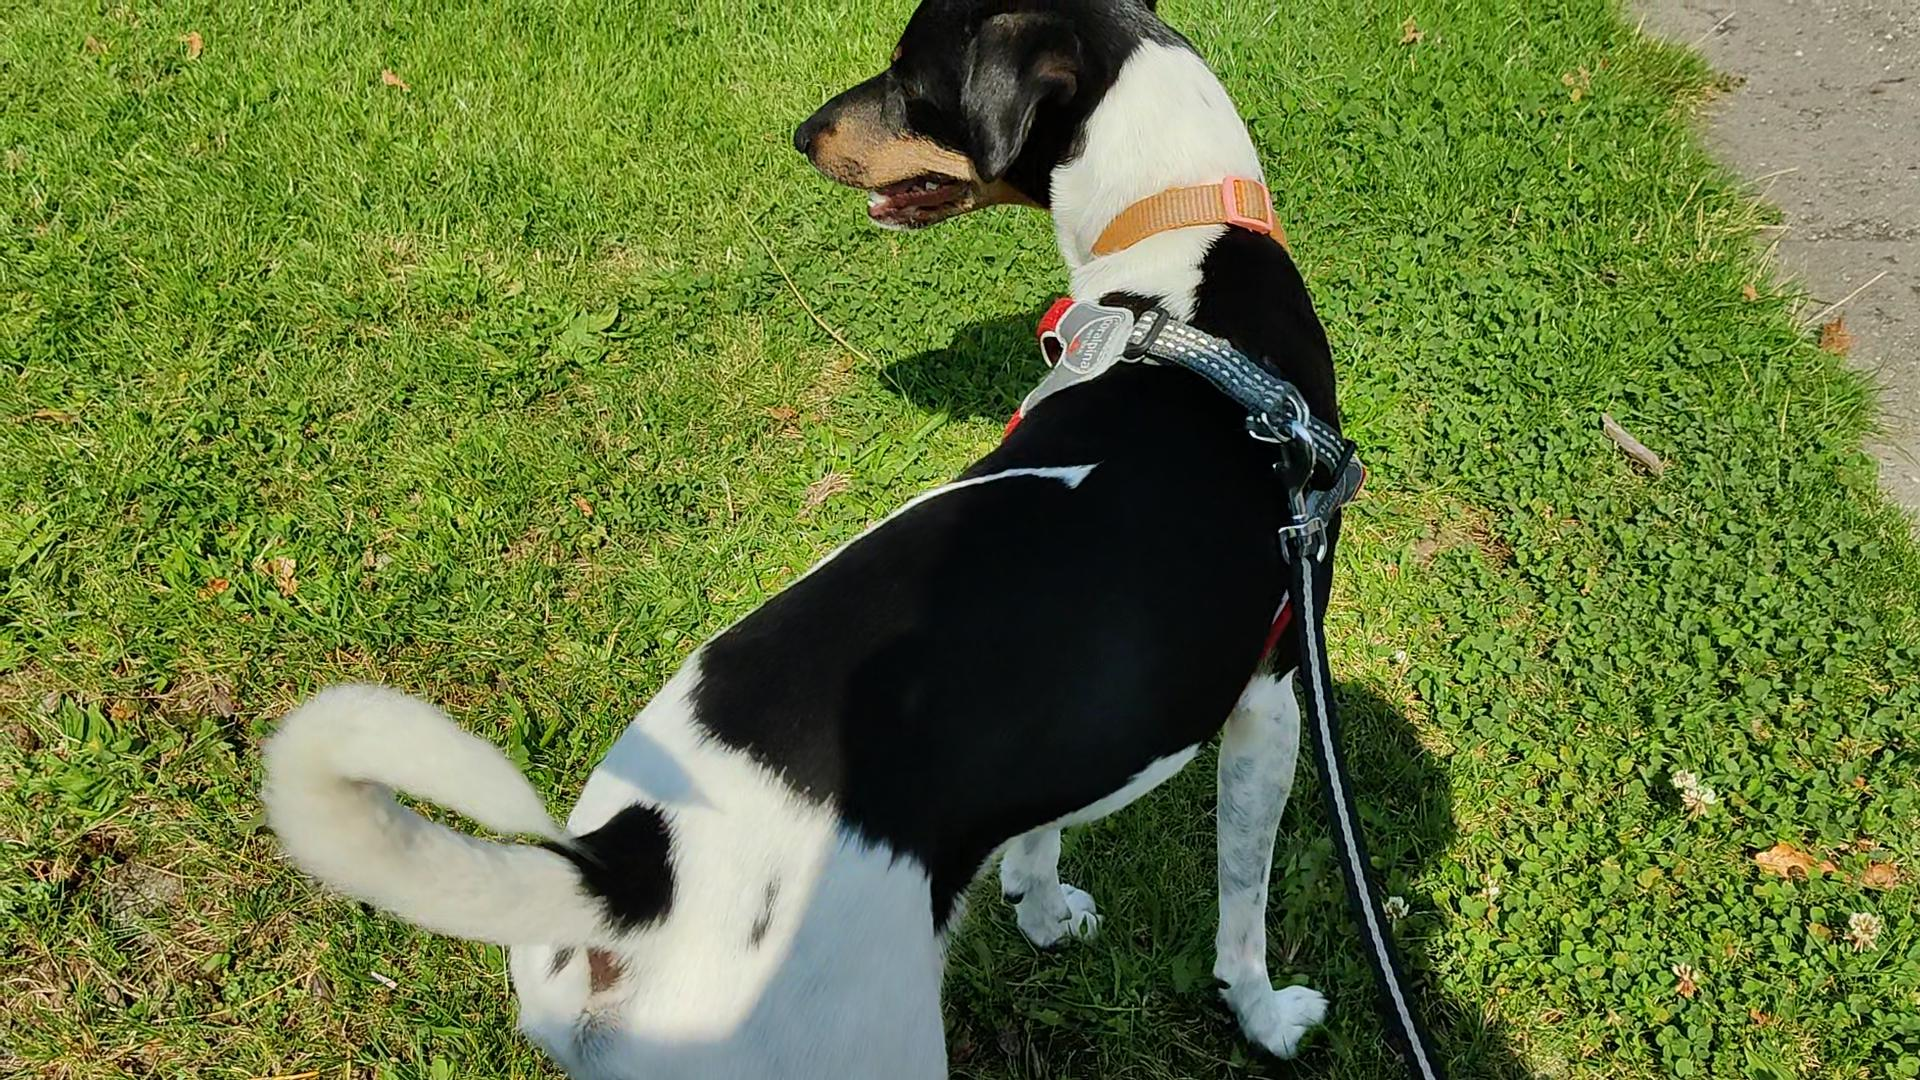Dog: (257, 0, 1336, 1079)
